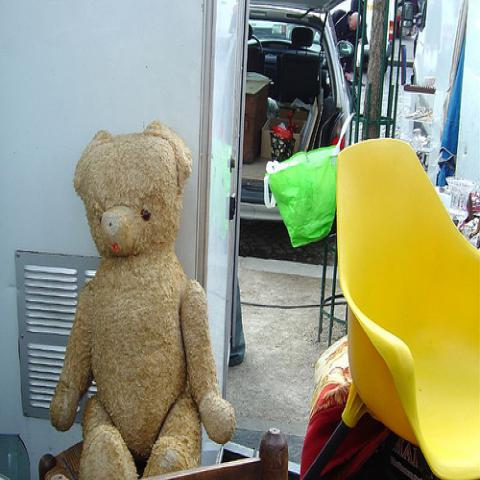car: (238, 1, 353, 221)
